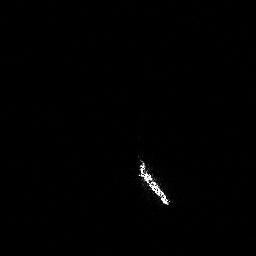ship: (135, 158, 171, 207)
